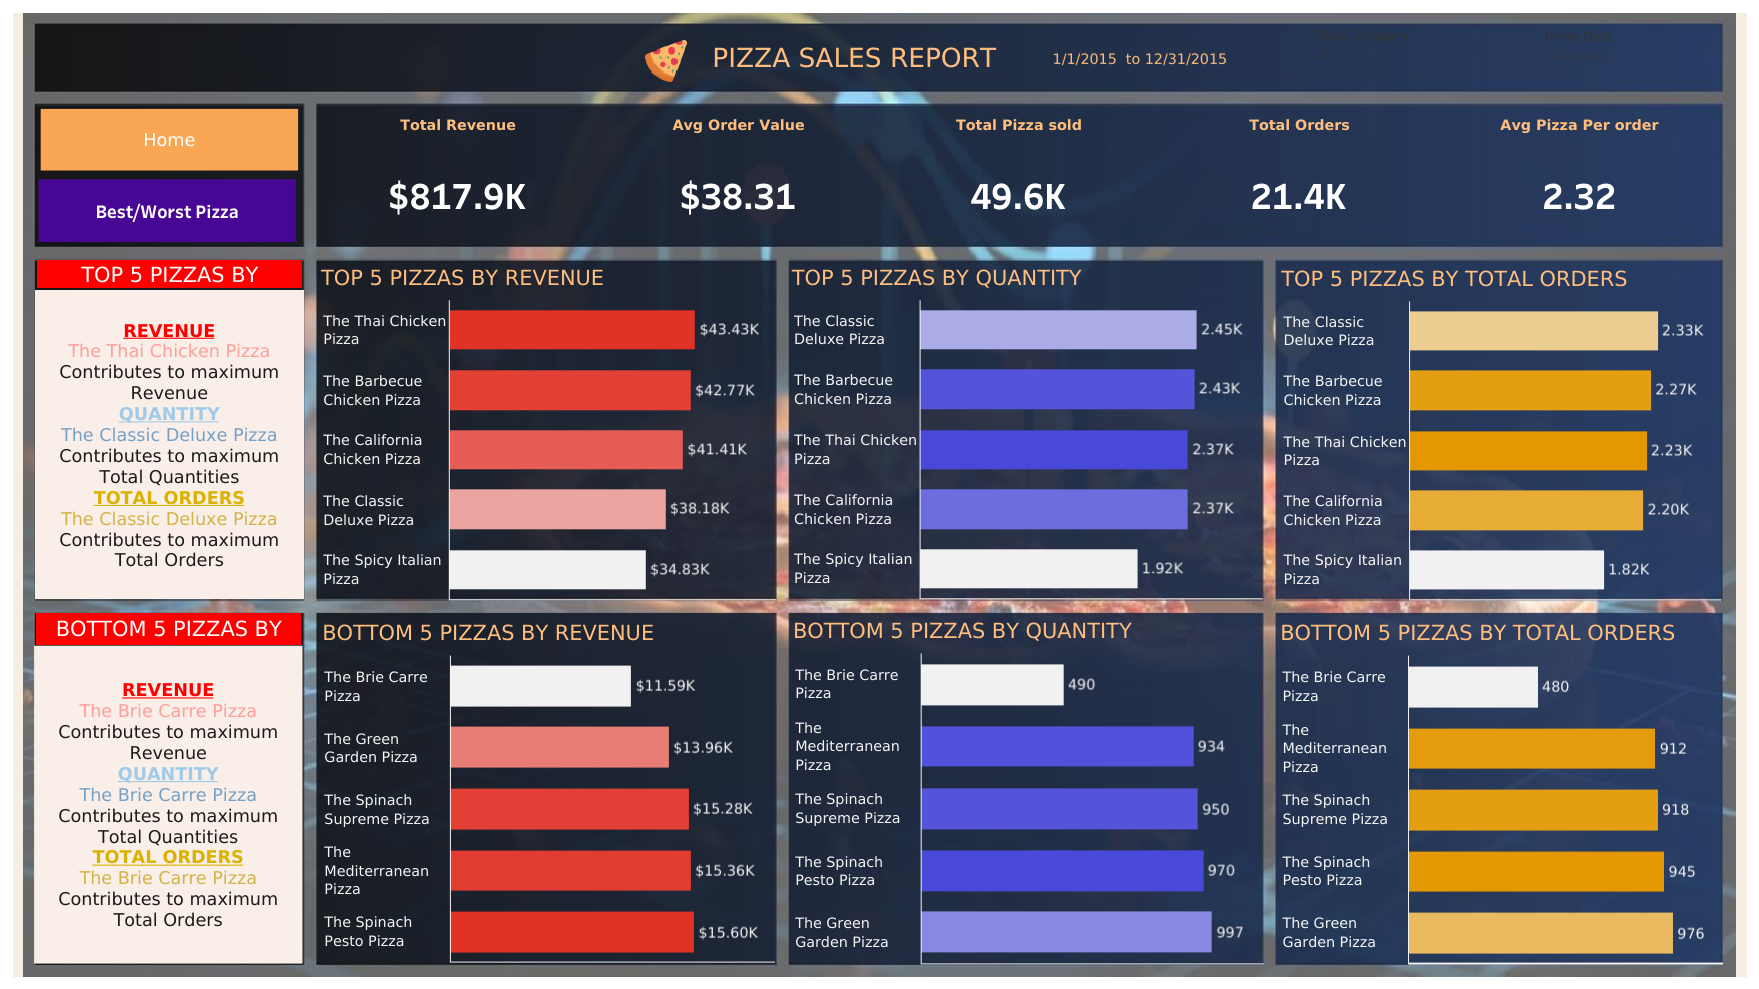

The page's visual inventory and layout, read from the dashboard file:
{"tool":"tableau","page":{"name":"Best/Worst Pizza","canvas":[1600,900],"ordinal":0},"visuals":[{"type":"image","param":"Image/Pizza Tableau 2.jpg","box":[8,8,1584,884]},{"type":"filter","title":"KPI","param":"[federated.1jtlkf706w61m3192kbos1v5yyjk].[none:pizza_category:nk]","box":[1197,21,160,61]},{"type":"filter","title":"KPI","param":"[federated.1jtlkf706w61m3192kbos1v5yyjk].[none:order_date:qk]","box":[1404,22,160,60]},{"type":"worksheet","title":"Sheet 7","mark":"Automatic","box":[920,29,235,50]},{"type":"text","box":[645,31,309,43]},{"type":"image","param":"Image/pizza-slice.png","box":[564,35,84,41]},{"type":"worksheet","title":"KPI","mark":"Automatic","box":[289,95,1275,129]},{"type":"dashboard-object","box":[37,99,234,56]},{"type":"dashboard-object","box":[35,163,234,57]},{"type":"worksheet","title":"TOP 5 PIZZAS BY REVENUE","mark":"Automatic","rows":["pizza_name"],"cols":["Calculation_1300695902329425920"],"box":[288,235,417,310]},{"type":"worksheet","title":"TOP 5 PIZZAS BY QUANTITY","mark":"Automatic","rows":["pizza_name"],"cols":["Calculation_1300695902330490883"],"box":[716,235,431,309]},{"type":"text","box":[34,236,241,26]},{"type":"worksheet","title":"TOP 5 PIZZAS BY TOTAL ORDERS","mark":"Automatic","rows":["pizza_name"],"cols":["Calculation_1300695902329982978"],"box":[1161,236,403,309]},{"type":"text","box":[32,264,244,281]},{"type":"worksheet","title":"BOTTOM 5 PIZZAS BY QUANTITY","mark":"Automatic","rows":["pizza_name"],"cols":["Calculation_1300695902330490883"],"box":[717,556,431,320]},{"type":"text","box":[33,557,241,29]},{"type":"worksheet","title":"BOTTOM 5 PIZZAS BY REVENUE","mark":"Automatic","rows":["pizza_name"],"cols":["Calculation_1300695902329425920"],"box":[289,558,415,317]},{"type":"worksheet","title":"BOTTOM 5 PIZZAS BY TOTAL ORDERS ","mark":"Automatic","rows":["pizza_name"],"cols":["Calculation_1300695902329982978"],"box":[1160,558,406,318]},{"type":"text","box":[31,587,244,289]}]}

Visuals, with their boxes in screenshot pixels (x1, y1, x2, y2), scaled from the page's 1600x900 canvas onto the 1759x989 screenshot:
image: detection(9, 9, 1750, 980)
"KPI" filter: detection(1316, 23, 1492, 90)
"KPI" filter: detection(1544, 24, 1719, 90)
"Sheet 7" worksheet: detection(1011, 32, 1270, 87)
text: detection(709, 34, 1049, 81)
image: detection(620, 38, 712, 84)
"KPI" worksheet: detection(318, 104, 1719, 246)
dashboard-object: detection(41, 109, 298, 170)
dashboard-object: detection(38, 179, 296, 242)
"TOP 5 PIZZAS BY REVENUE" worksheet: detection(317, 258, 775, 599)
"TOP 5 PIZZAS BY QUANTITY" worksheet: detection(787, 258, 1261, 598)
text: detection(37, 259, 302, 288)
"TOP 5 PIZZAS BY TOTAL ORDERS" worksheet: detection(1276, 259, 1719, 599)
text: detection(35, 290, 303, 599)
"BOTTOM 5 PIZZAS BY QUANTITY" worksheet: detection(788, 611, 1262, 963)
text: detection(36, 612, 301, 644)
"BOTTOM 5 PIZZAS BY REVENUE" worksheet: detection(318, 613, 774, 962)
"BOTTOM 5 PIZZAS BY TOTAL ORDERS " worksheet: detection(1275, 613, 1722, 963)
text: detection(34, 645, 302, 963)
